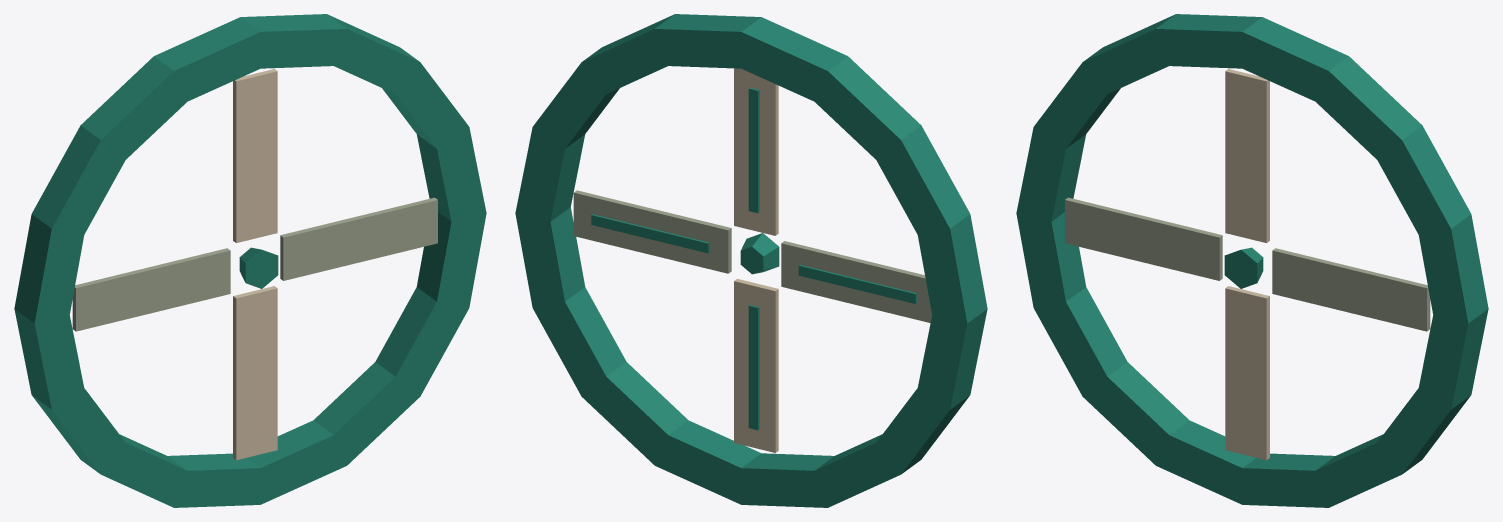
File: fan.gltf
3 views of the same model, side by side, from view 1: azimuth 30°, elevation 25°; view 2: azimuth 150°, elevation 25°; view 3: azimuth 330°, elevation 25° (orthographic).
Visible parts, largest first — view 1: frame, blades; view 2: frame, blades; view 3: frame, blades.
Part boxes in pixels (x1,y1,x2,y2): frame: (14, 14, 486, 507); blades: (72, 69, 437, 460); frame: (515, 14, 987, 507); blades: (573, 68, 931, 452); frame: (1016, 14, 1488, 507); blades: (1065, 69, 1430, 460).
Size of the model in its own units: 0.9108 by 0.9108 by 0.0754.
